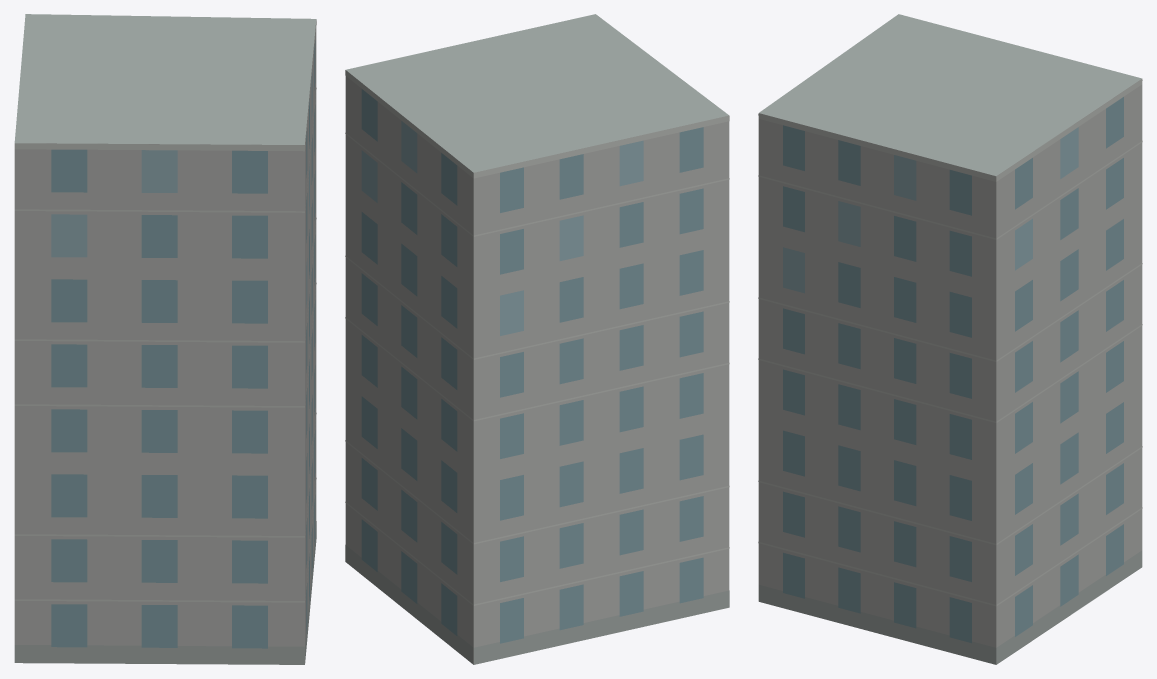
The model's file is survey-upis-32747164.glb.
The picture shows the model from 3 angles, left to right: view 1: azimuth 30°, elevation 25°; view 2: azimuth 150°, elevation 25°; view 3: azimuth 270°, elevation 25°; orthographic projection. The views are drawn at different scales.
Parts seen in each view (by area): view 1: survey-upis-32747164.tmp; view 2: survey-upis-32747164.tmp; view 3: survey-upis-32747164.tmp.
Boxes of the visible parts, bbox=[...] form: survey-upis-32747164.tmp: bbox=[14, 14, 316, 664]; survey-upis-32747164.tmp: bbox=[345, 14, 729, 664]; survey-upis-32747164.tmp: bbox=[758, 14, 1142, 664].
Bounding box in the file's own units: 14.83 × 20.8 × 14.83.
